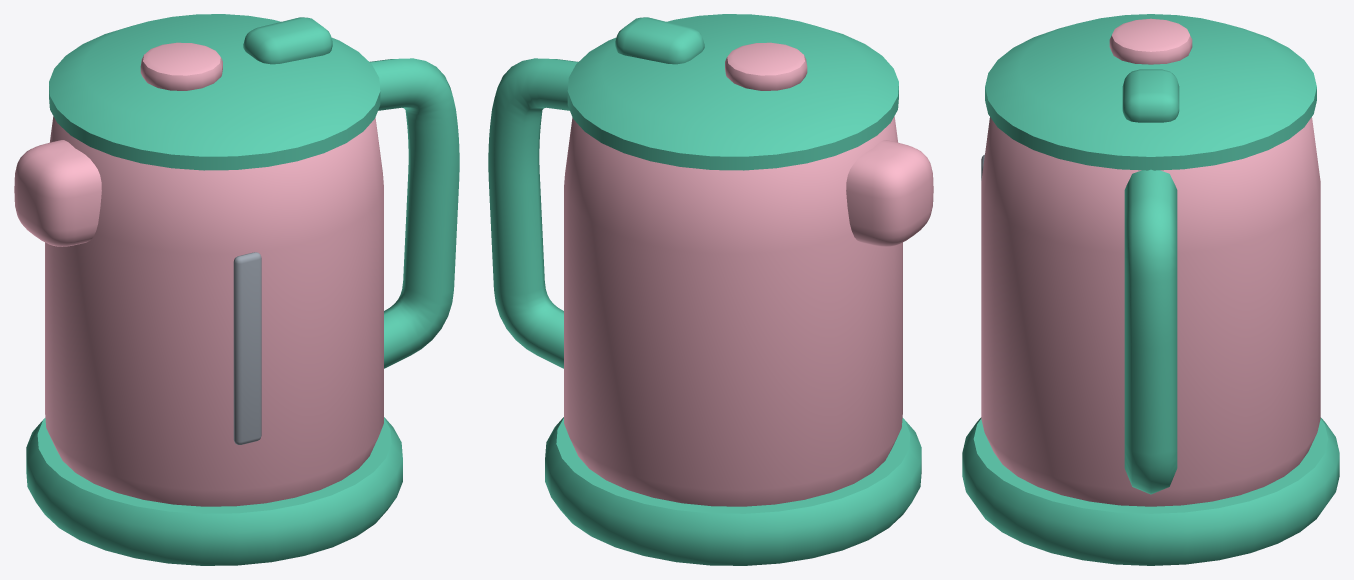
Rendered from chaleira_eletrica_rosa.glb.
3 renders of one model, left to right at view 1: azimuth 30°, elevation 25°; view 2: azimuth 150°, elevation 25°; view 3: azimuth 270°, elevation 25°, orthographic.
Parts seen in each view (by area): view 1: chaleira_eletrica_rosa, tampa; view 2: chaleira_eletrica_rosa, tampa; view 3: chaleira_eletrica_rosa, tampa.
Boxes of the visible parts, left/top/right/bottom form: chaleira_eletrica_rosa: left=14, top=58, right=459, bottom=565; tampa: left=49, top=14, right=380, bottom=170; chaleira_eletrica_rosa: left=488, top=58, right=933, bottom=565; tampa: left=567, top=14, right=898, bottom=170; chaleira_eletrica_rosa: left=962, top=117, right=1339, bottom=565; tampa: left=985, top=14, right=1316, bottom=170.
Size of the model in its own units: 0.2633 by 0.26 by 0.2.
Materials: 1 (1 with a texture image).
